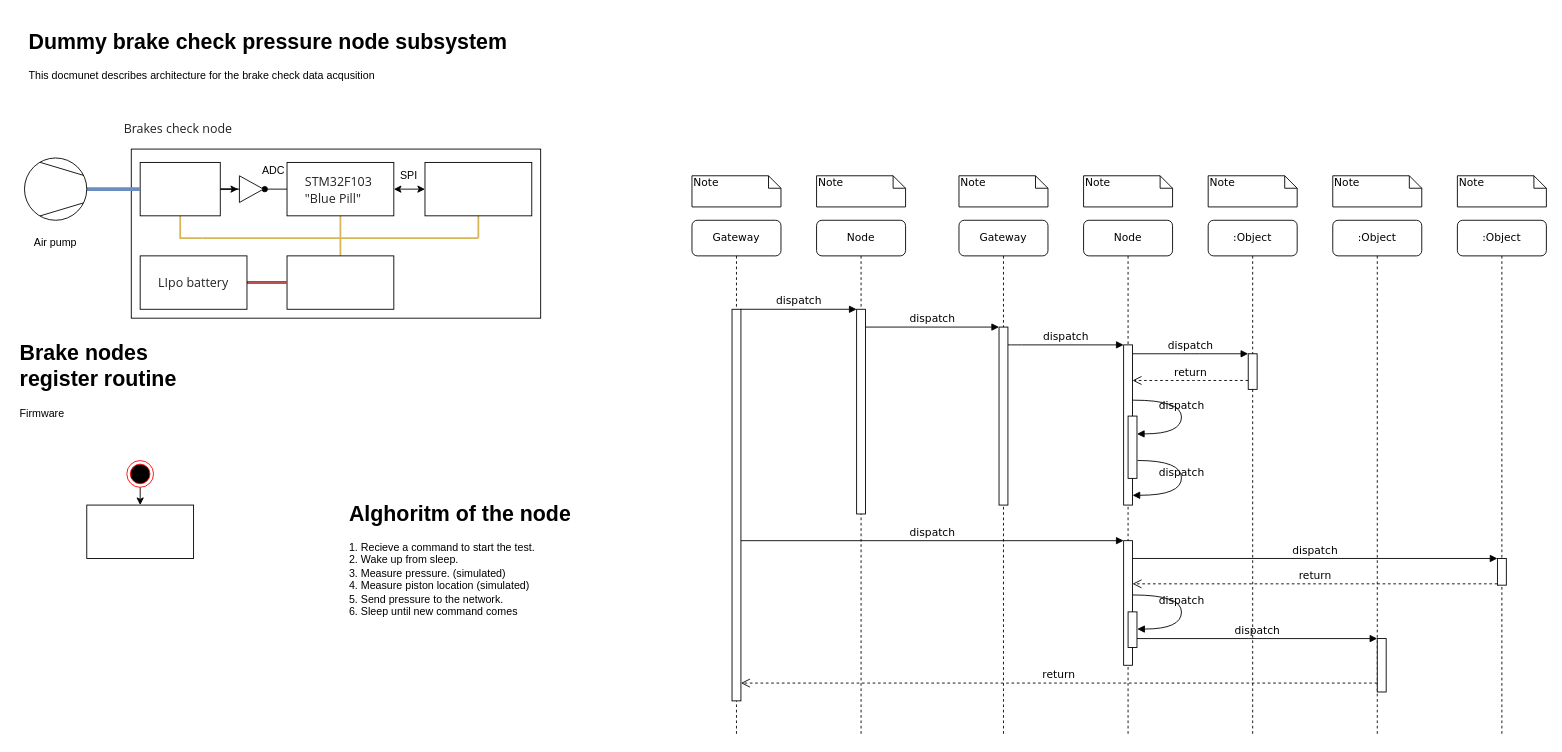
Some shapes in this 1562 by 752 pixel diagram are drawn without their labels. The centre of each missing label's shape, as x and y in pixels:
3.3 V liner regulator: the point at 340,282
Start: the point at 140,531
SX1278 LoRa Module 433M Ra-02: the point at 478,189
XGZP101 pressure sensor: the point at 179,189
